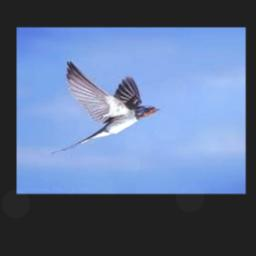Swallow: (50, 60, 158, 153)
